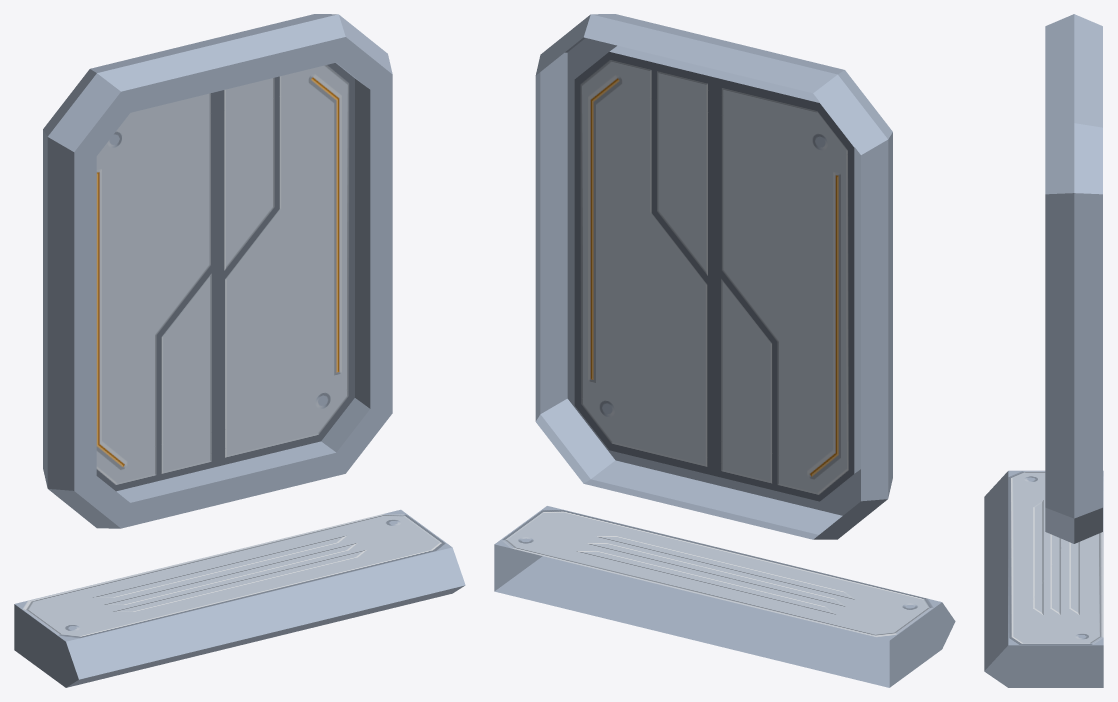
Rendered from Envi21.dae.
3 views of the same model, side by side, from view 1: azimuth 30°, elevation 25°; view 2: azimuth 150°, elevation 25°; view 3: azimuth 270°, elevation 25° (orthographic). The views are drawn at different scales.
Visible parts, largest first — view 1: Cube.062; view 2: Cube.062; view 3: Cube.062.
Part boxes in pixels (x1=…): Cube.062: x1=14, y1=14, x2=465, y2=687; Cube.062: x1=494, y1=14, x2=955, y2=687; Cube.062: x1=984, y1=14, x2=1103, y2=687.
Bounding box in the file's own units: 2.72 × 0.7863 × 3.84.
